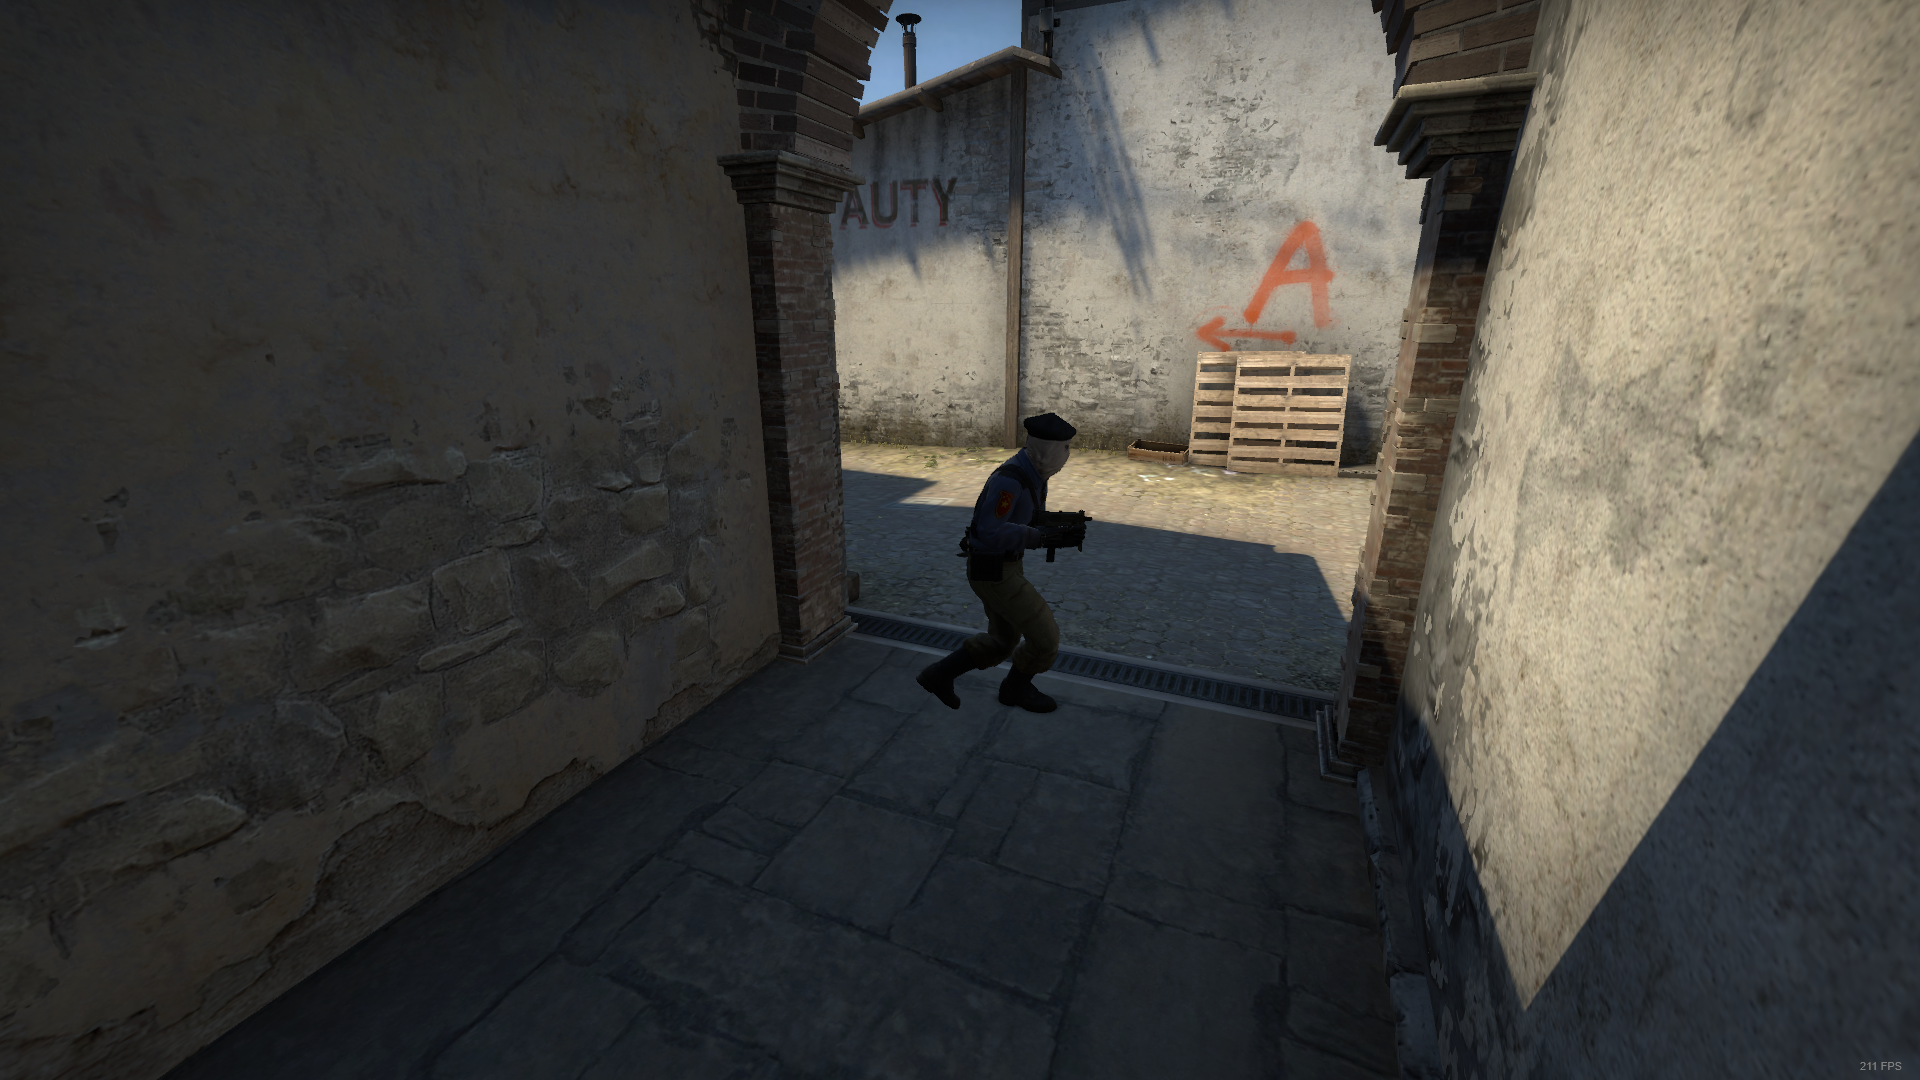t: (895, 392, 1104, 748)
